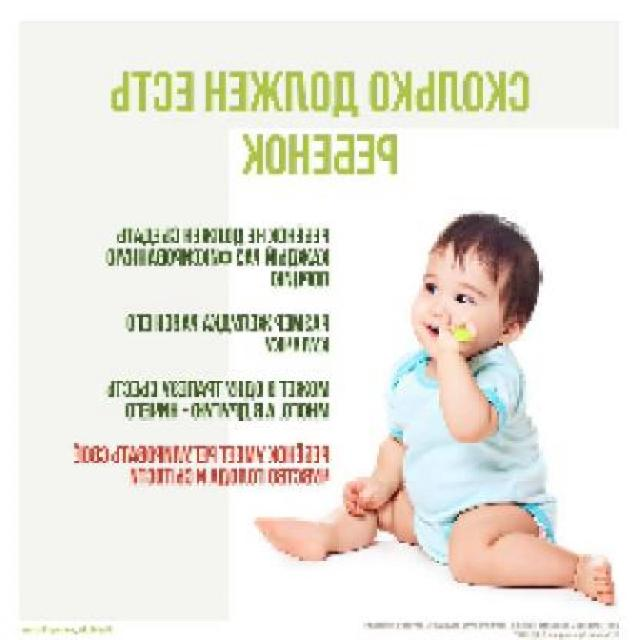child: (252, 211, 618, 606)
